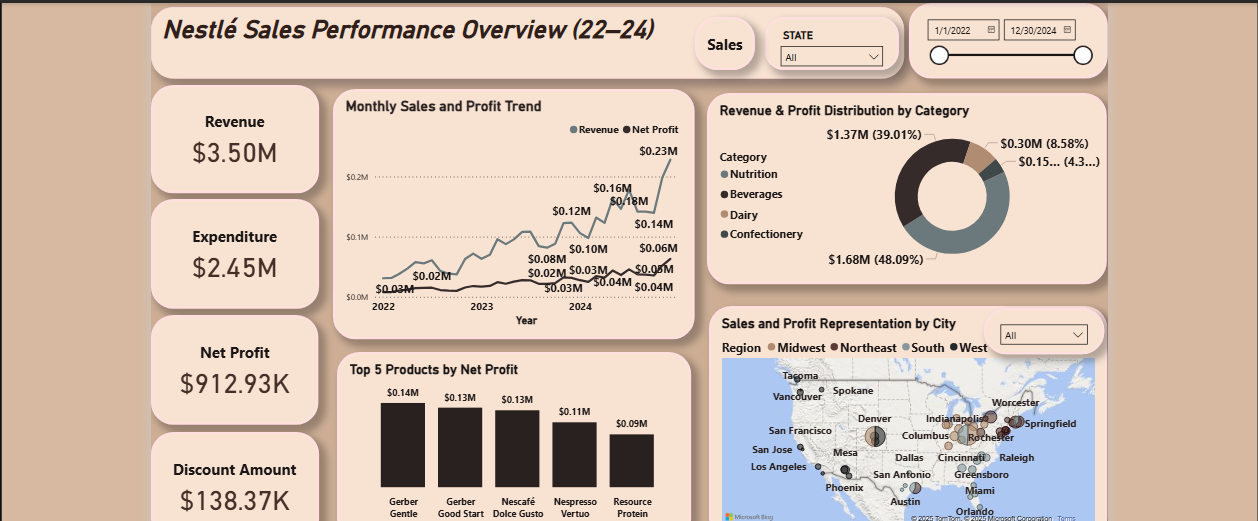

The page's visual inventory and layout, read from the dashboard file:
{"tool":"powerbi","page":{"name":"Overview","canvas":[1280,720],"ordinal":8},"visuals":[{"type":"map","title":"Sales and Profit Representation by City","fields":{"Series":["nestle_sales_data.Region"],"Size":["Sum(nestle_sales_data.Sales_Amount)"],"Category":["nestle_sales_data.CITY"]},"box":[746.8,405.5,532.6,314.5],"z":0},{"type":"textbox","title":"Nestlé Sales Performance Overview (22–24)","box":[0,5.4,1007.7,96.4],"z":1000},{"type":"slicer","fields":{"Values":["nestle_sales_data.STATE"]},"box":[821.7,18.7,179.3,70.9],"z":2000},{"type":"lineChart","title":"Monthly Sales and Profit Trend","fields":{"Y":["Sum(nestle_sales_data.Sales_Amount)","Sum(nestle_sales_data.Net Profit)"],"Category":["nestle_sales_data.Order_Date.Variation.Date Hierarchy.Year","nestle_sales_data.Order_Date.Variation.Date Hierarchy.Quarter","nestle_sales_data.Order_Date.Variation.Date Hierarchy.Month"]},"box":[243.6,115.1,484.5,334.6],"z":3000},{"type":"donutChart","title":"Revenue & Profit Distribution by Category","fields":{"Category":["nestle_sales_data.Category"],"Y":["Sum(nestle_sales_data.Sales_Amount)"]},"box":[744.1,120.4,535.3,255.6],"z":4000},{"type":"cardVisual","fields":{"Data":["Sum(nestle_sales_data.Revenue)"]},"box":[0,109.7,224.8,144.5],"z":5000},{"type":"cardVisual","fields":{"Data":["Sum(nestle_sales_data.Expenditure)"]},"box":[0,262.3,224.8,147.2],"z":6000},{"type":"cardVisual","fields":{"Data":["Sum(nestle_sales_data.Net Profit)"]},"box":[0,417.1,224.3,147.1],"z":7000},{"type":"cardVisual","fields":{"Data":["Sum(nestle_sales_data.Discount Amount)"]},"box":[0,574.1,224.8,145.9],"z":8000},{"type":"slicer","fields":{"Values":["nestle_sales_data.Order_Date"]},"box":[1014.2,0,265.8,101.3],"z":9000},{"type":"clusteredColumnChart","title":"Top 5 Products by Net Profit","fields":{"Category":["nestle_sales_data.Product_Name"],"Y":["Sum(nestle_sales_data.Net Profit)"]},"box":[248.9,467.1,473.8,252.9],"z":10000},{"type":"pageNavigator","box":[728,18.7,80.3,70.9],"z":11000},{"type":"slicer","fields":{"Values":["nestle_sales_data.Region"]},"box":[1114.8,408.2,160.6,61.6],"z":12000}]}

Visuals, with their boxes on the page's 1280x720 design canvas (x1, y1, x2, y2). These are canvas units, not pixel positions in the 1258x521 screenshot, which may show the page scaled, cropped or inside an application window:
"Sales and Profit Representation by City" map: pyautogui.locateOnScreen(747, 406, 1279, 720)
"Nestlé Sales Performance Overview (22–24)" textbox: pyautogui.locateOnScreen(0, 5, 1008, 102)
slicer - nestle_sales_data.STATE: pyautogui.locateOnScreen(822, 19, 1001, 90)
"Monthly Sales and Profit Trend" lineChart: pyautogui.locateOnScreen(244, 115, 728, 450)
"Revenue & Profit Distribution by Category" donutChart: pyautogui.locateOnScreen(744, 120, 1279, 376)
cardVisual - Sum(nestle_sales_data.Revenue): pyautogui.locateOnScreen(0, 110, 225, 254)
cardVisual - Sum(nestle_sales_data.Expenditure): pyautogui.locateOnScreen(0, 262, 225, 410)
cardVisual - Sum(nestle_sales_data.Net Profit): pyautogui.locateOnScreen(0, 417, 224, 564)
cardVisual - Sum(nestle_sales_data.Discount Amount): pyautogui.locateOnScreen(0, 574, 225, 720)
slicer - nestle_sales_data.Order_Date: pyautogui.locateOnScreen(1014, 0, 1280, 101)
"Top 5 Products by Net Profit" clusteredColumnChart: pyautogui.locateOnScreen(249, 467, 723, 720)
pageNavigator: pyautogui.locateOnScreen(728, 19, 808, 90)
slicer - nestle_sales_data.Region: pyautogui.locateOnScreen(1115, 408, 1275, 470)
